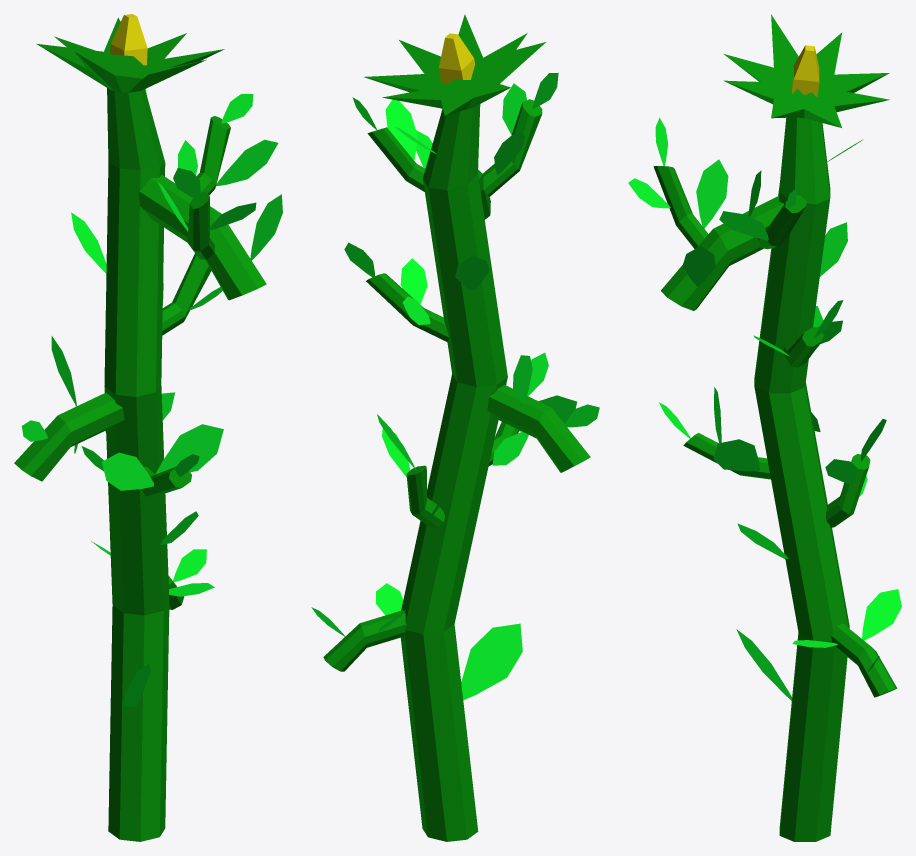
The model's file is TomatoPlant 1.fbx.
3 views of the same model, side by side, from view 1: azimuth 30°, elevation 25°; view 2: azimuth 150°, elevation 25°; view 3: azimuth 270°, elevation 25° (orthographic). The views are drawn at different scales.
Parts seen in each view (by area): view 1: Cube; view 2: Cube; view 3: Cube.
Part boxes in pixels (x1,y1,x2,y2): Cube: (14,14,282,841); Cube: (311,14,599,841); Cube: (628,14,901,841).
Size of the model in its own units: 334 by 1075 by 341.
